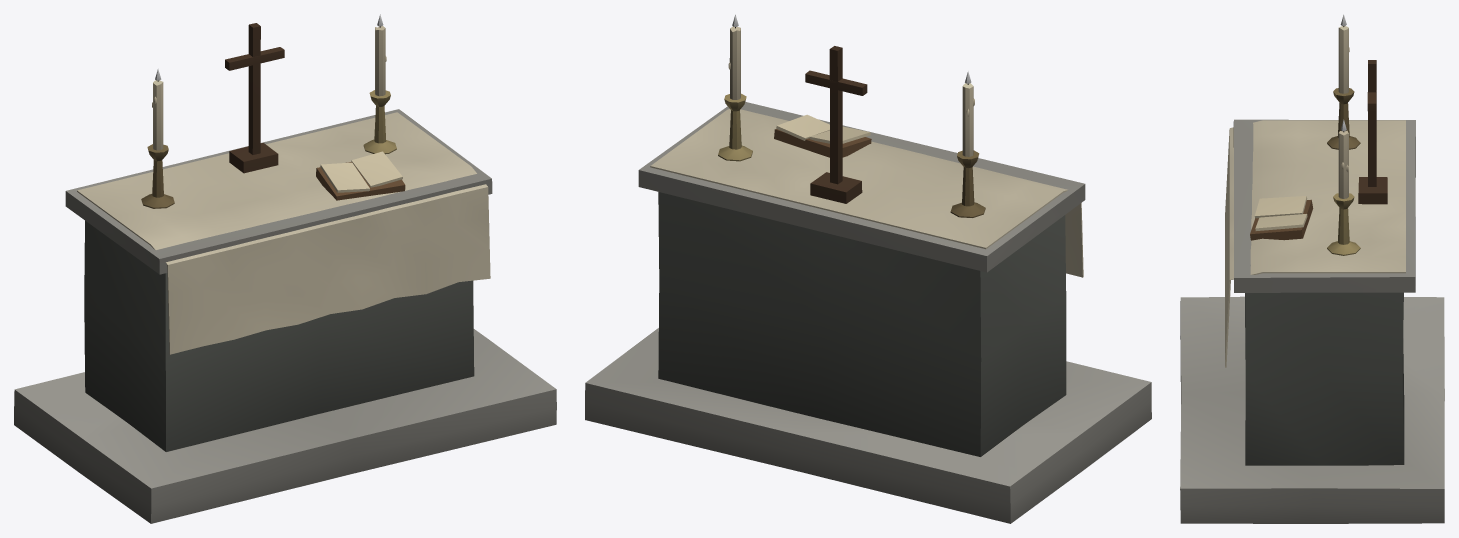
File: ph_int_altar.glb
3 renders of one model, left to right at view 1: azimuth 30°, elevation 25°; view 2: azimuth 150°, elevation 25°; view 3: azimuth 270°, elevation 25°, orthographic. The views are drawn at different scales.
Parts seen in each view (by area): view 1: ph_int_altar; view 2: ph_int_altar; view 3: ph_int_altar.
Boxes of the visible parts, x1,y1,x2,y2 form: ph_int_altar: (14, 23, 556, 523); ph_int_altar: (585, 26, 1151, 523); ph_int_altar: (1180, 26, 1444, 523).
Size of the model in its own units: 1.91 by 1.69 by 1.11.
